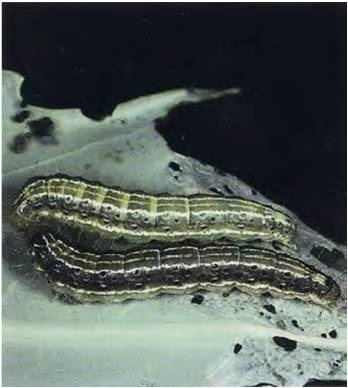Armyworm: (10, 171, 292, 249), (36, 248, 337, 305)
